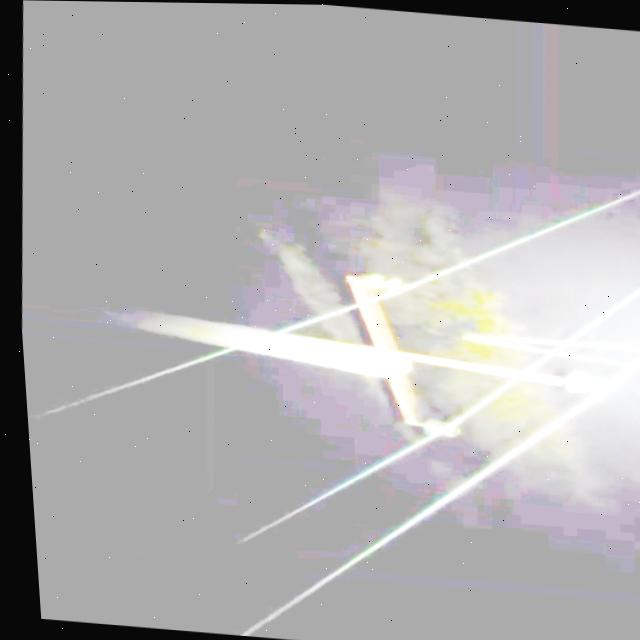poles: (134, 273, 604, 434)
wires: (232, 394, 593, 635), (293, 398, 587, 595), (257, 190, 639, 337), (409, 188, 640, 284), (294, 428, 435, 506), (520, 281, 640, 370), (99, 337, 253, 393), (444, 376, 513, 422), (607, 349, 640, 386), (608, 350, 640, 384)
